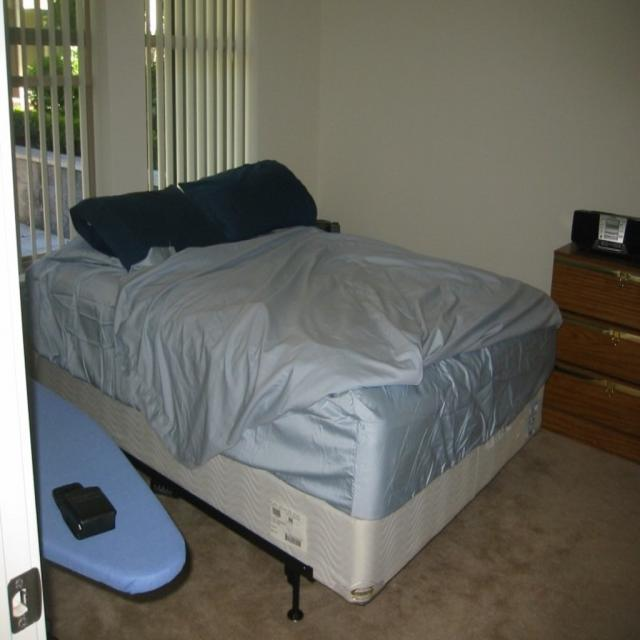bed: (25, 212, 549, 540)
beside table: (554, 232, 640, 483)
window: (10, 8, 251, 204)
